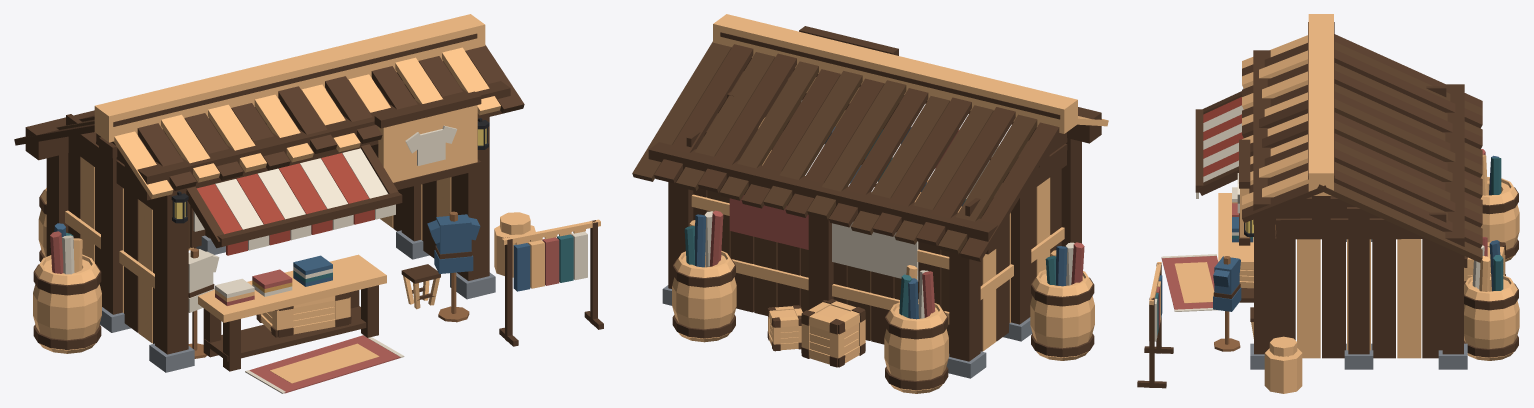
The model's file is shop1.fbx.
3 views of the same model, side by side, from view 1: azimuth 30°, elevation 25°; view 2: azimuth 150°, elevation 25°; view 3: azimuth 270°, elevation 25° (orthographic). The views are drawn at different scales.
Parts seen in each view (by area): view 1: Roof_Front_8; view 2: Roof_Front_8; view 3: Roof_Front_8.
Boxes of the visible parts, x1,y1,x2,y2 form: Roof_Front_8: (14,14,603,393); Roof_Front_8: (632,14,1108,393); Roof_Front_8: (1137,14,1519,393).
Size of the model in its own units: 723 by 372 by 608.
